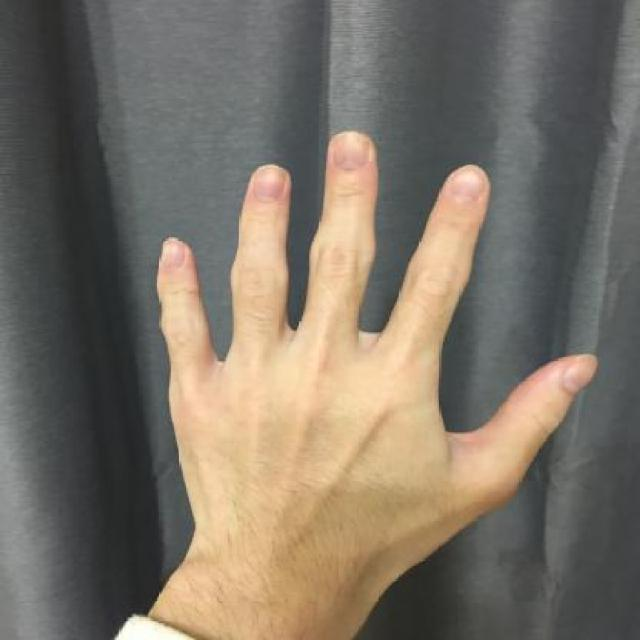bare_hand: (137, 120, 606, 622)
